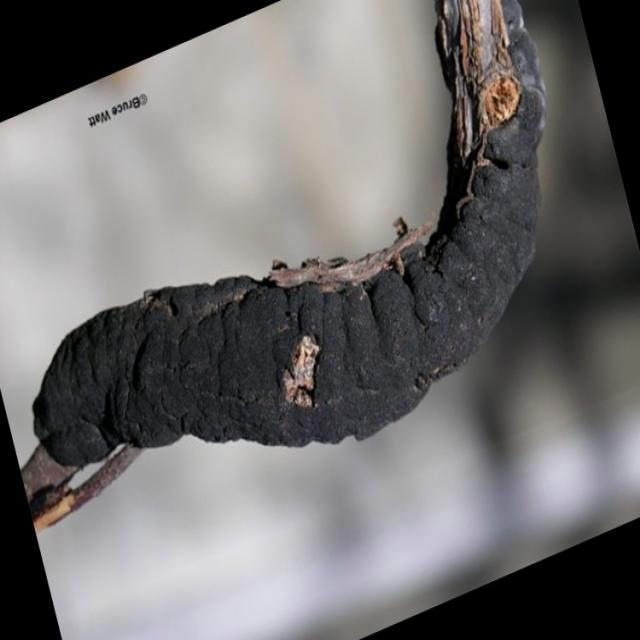Black_knot: (20, 0, 548, 522)
